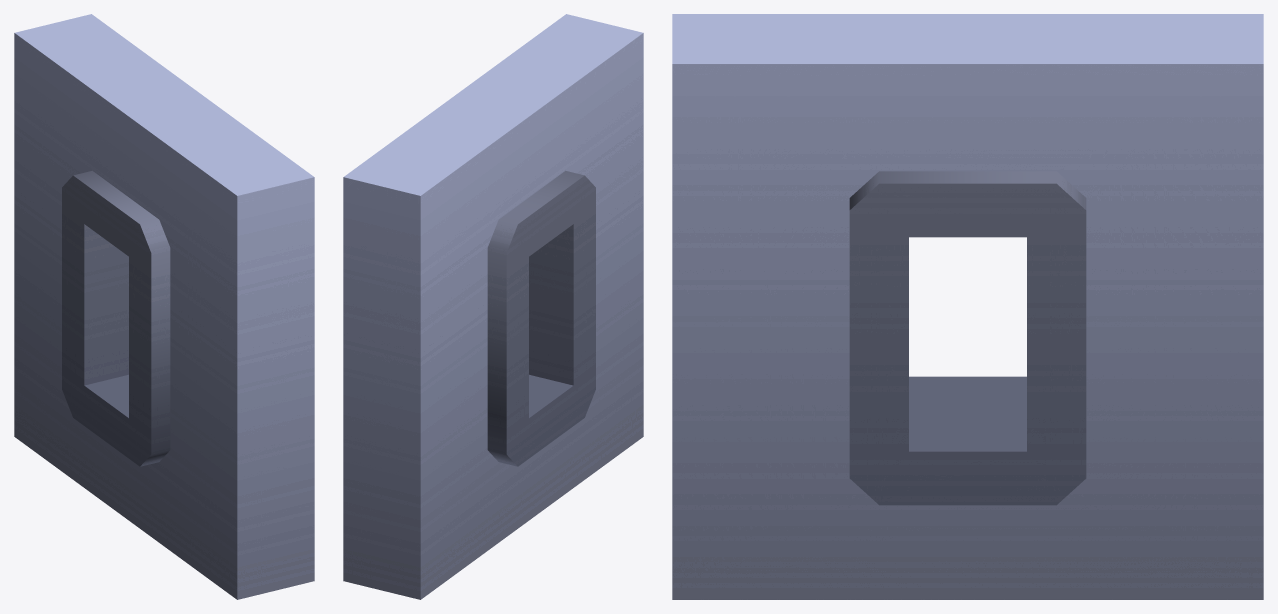
Rendered from wall-window-small.glb.
The picture shows the model from 3 angles, left to right: view 1: azimuth 30°, elevation 25°; view 2: azimuth 150°, elevation 25°; view 3: azimuth 270°, elevation 25°; orthographic projection. The views are drawn at different scales.
Visible parts, largest first — view 1: wall-window-small; view 2: wall-window-small; view 3: wall-window-small.
Part boxes in pixels (x1,y1,x2,y2): wall-window-small: (14, 14, 314, 599); wall-window-small: (343, 14, 643, 599); wall-window-small: (672, 14, 1263, 599).
Size of the model in its own units: 0.3 by 1 by 1.
1 material, 1 textured.
